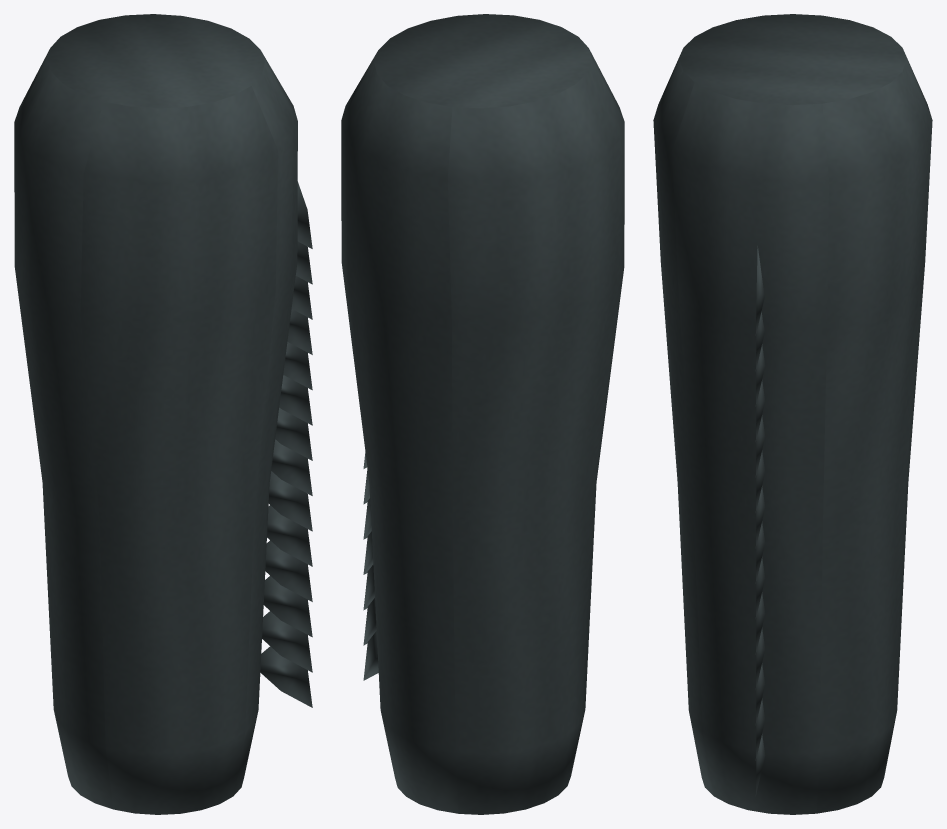
File: upper_arm_l_lod0.glb
3 renders of one model, left to right at view 1: azimuth 30°, elevation 25°; view 2: azimuth 150°, elevation 25°; view 3: azimuth 270°, elevation 25°, orthographic.
Visible parts, largest first — view 1: dormin_upper_arm_l_LOD0; view 2: dormin_upper_arm_l_LOD0; view 3: dormin_upper_arm_l_LOD0.
Part boxes in pixels (x1,y1,x2,y2): dormin_upper_arm_l_LOD0: (14, 14, 312, 814); dormin_upper_arm_l_LOD0: (341, 14, 624, 814); dormin_upper_arm_l_LOD0: (653, 14, 932, 814).
Bounding box in the file's own units: 1.64 × 4.26 × 1.5.
1 material, 1 textured.
